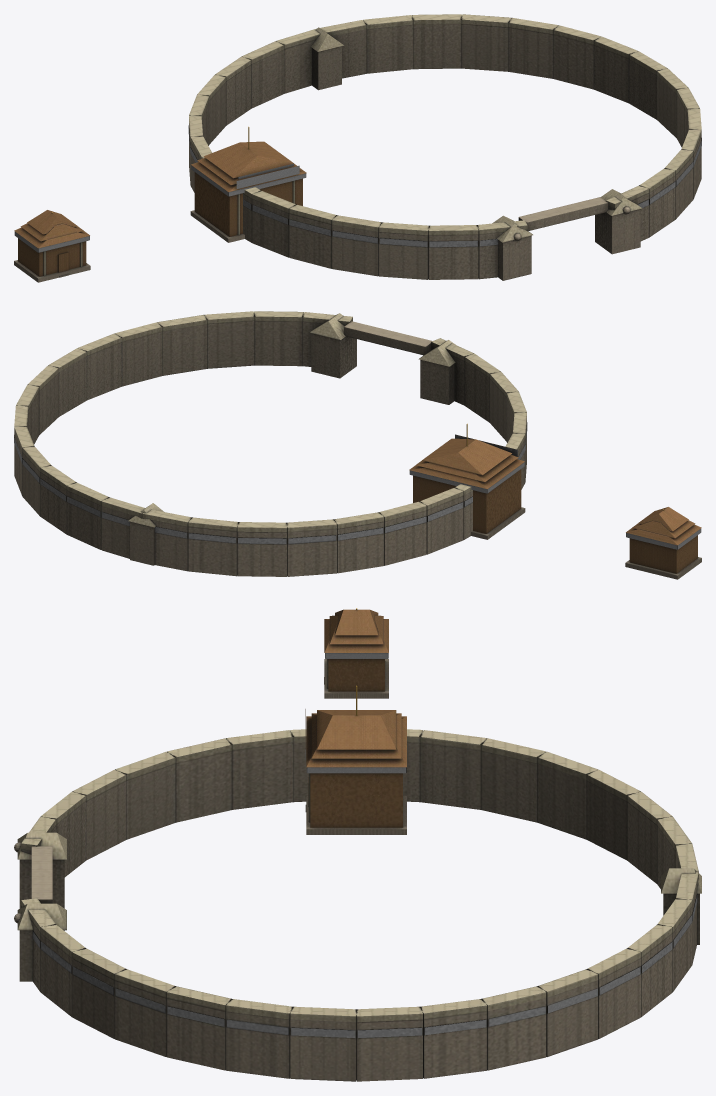
File: shared-kingdoms-monsoon.glb
The picture shows the model from 3 angles, top to bottom: view 1: azimuth 30°, elevation 25°; view 2: azimuth 150°, elevation 25°; view 3: azimuth 270°, elevation 25°; orthographic projection. The views are drawn at different scales.
Visible parts, largest first — view 1: LOD0.002, LOD0.001, LOD0; view 2: LOD0.002, LOD0.001, LOD0; view 3: LOD0.002, LOD0.001, LOD0.
Boxes of the visible parts, x1,y1,x2,y2 form: LOD0.002: (188, 14, 701, 280); LOD0.001: (190, 126, 306, 242); LOD0: (14, 210, 90, 282); LOD0.002: (14, 311, 527, 576); LOD0.001: (409, 423, 525, 539); LOD0: (625, 507, 701, 579); LOD0.002: (14, 729, 701, 1081); LOD0.001: (305, 685, 406, 834); LOD0: (324, 608, 388, 698).
Size of what is drawn, in the model's own units: 9.8 by 1.35 by 6.83.
Materials: 2 (2 with a texture image).
